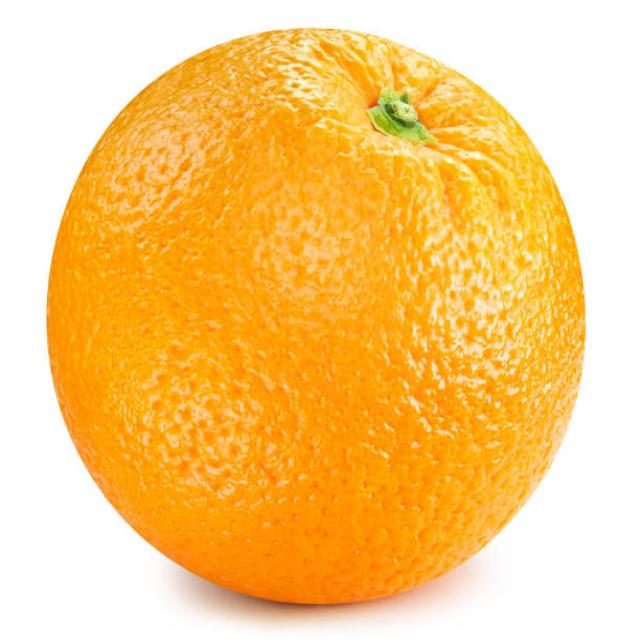Ripe: (37, 18, 594, 610)
